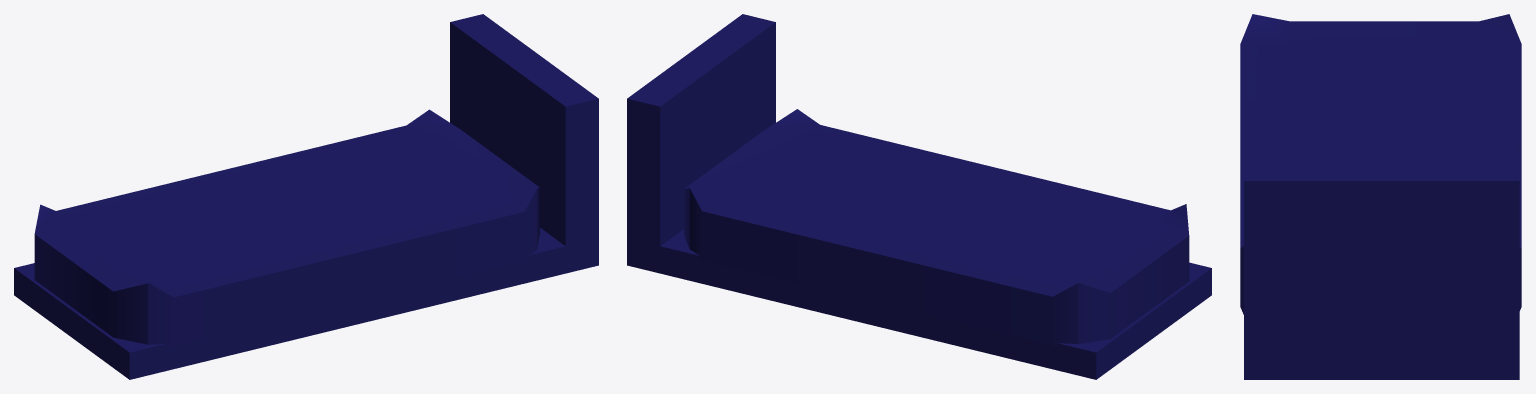
Rendered from SmallBed.obj.
3 views of the same model, side by side, from view 1: azimuth 30°, elevation 25°; view 2: azimuth 150°, elevation 25°; view 3: azimuth 270°, elevation 25° (orthographic). The views are drawn at different scales.
Visible parts, largest first — view 1: group1 pCube3, pCube5 group1; view 2: group1 pCube3, pCube5 group1; view 3: pCube5 group1, group1 pCube3.
Part boxes in pixels (box(x1,y1,x2,y2)): group1 pCube3: box(34, 109, 539, 351); pCube5 group1: box(14, 14, 598, 379); group1 pCube3: box(684, 109, 1189, 347); pCube5 group1: box(627, 14, 1211, 379); pCube5 group1: box(1244, 161, 1519, 379); group1 pCube3: box(1240, 14, 1521, 314).
Size of the model in its own units: 17.98 by 6.11 by 7.84.
